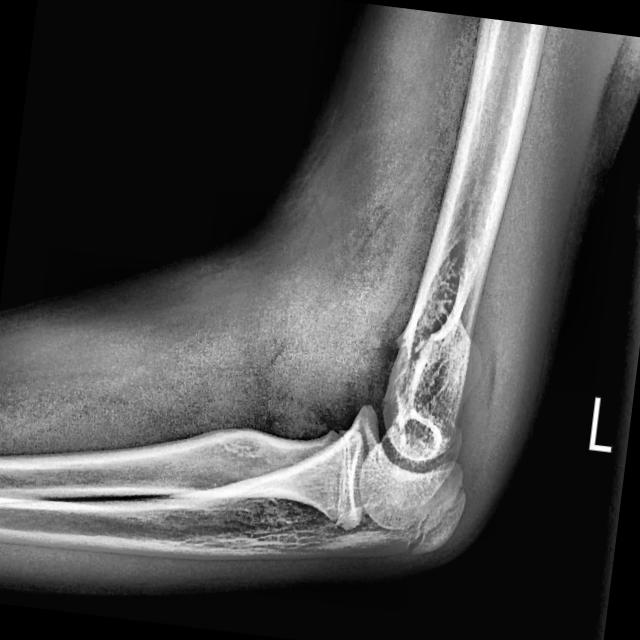elbow positive: (393, 480, 477, 569)
